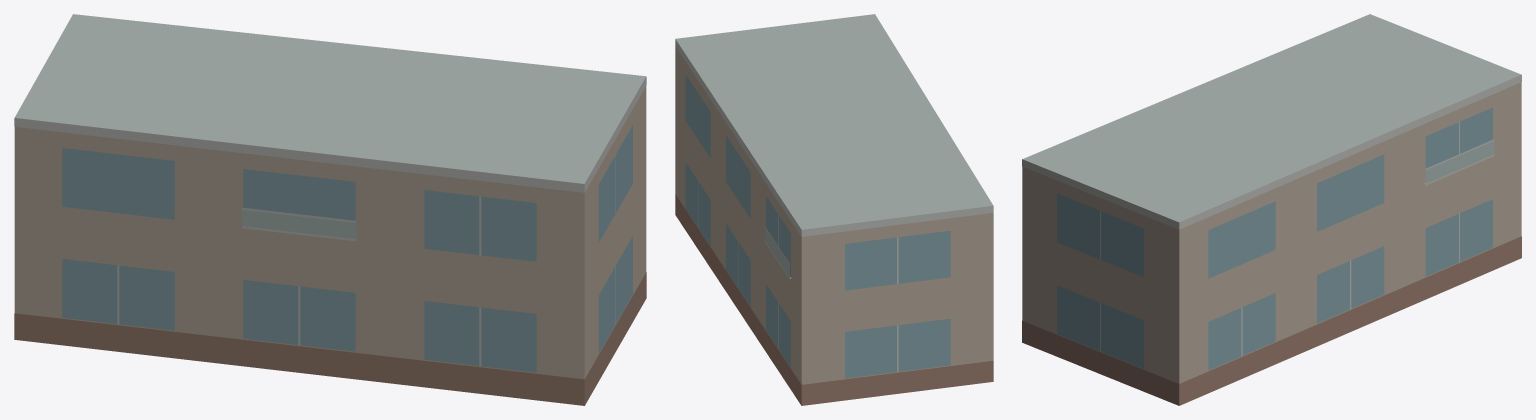
Rendered from survey-upis-32898757.glb.
The picture shows the model from 3 angles, left to right: view 1: azimuth 30°, elevation 25°; view 2: azimuth 150°, elevation 25°; view 3: azimuth 270°, elevation 25°; orthographic projection. The views are drawn at different scales.
Visible parts, largest first — view 1: survey-upis-32898757.tmp; view 2: survey-upis-32898757.tmp; view 3: survey-upis-32898757.tmp.
Part boxes in pixels (x1,y1,x2,y2): survey-upis-32898757.tmp: (14,14,646,405); survey-upis-32898757.tmp: (675,14,993,405); survey-upis-32898757.tmp: (1022,14,1521,405).
Bounding box in the file's own units: 14.87 × 6.1 × 15.06.
